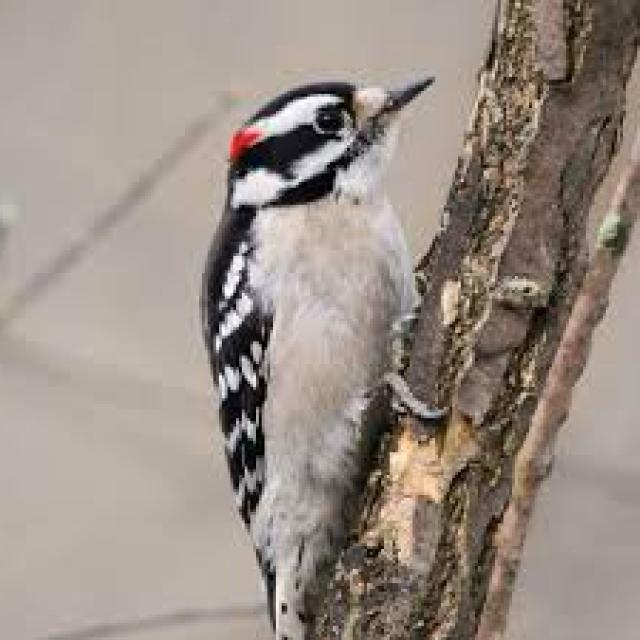woodpecker: (205, 77, 447, 637)
